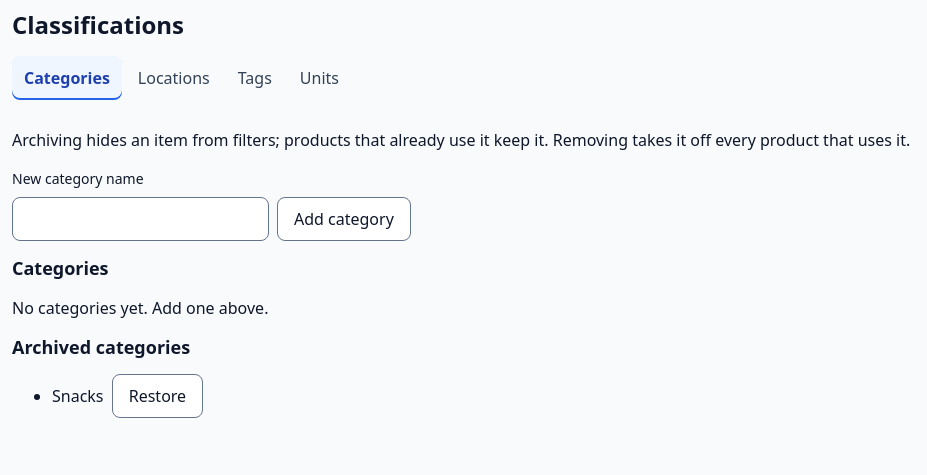
Test case: ClassificationsPage › Categories › archive and restore › restores an archived item and refreshes
Step 1. Click the button with aria-label "Restore Snacks" → (157, 396), box [112,374,203,418]
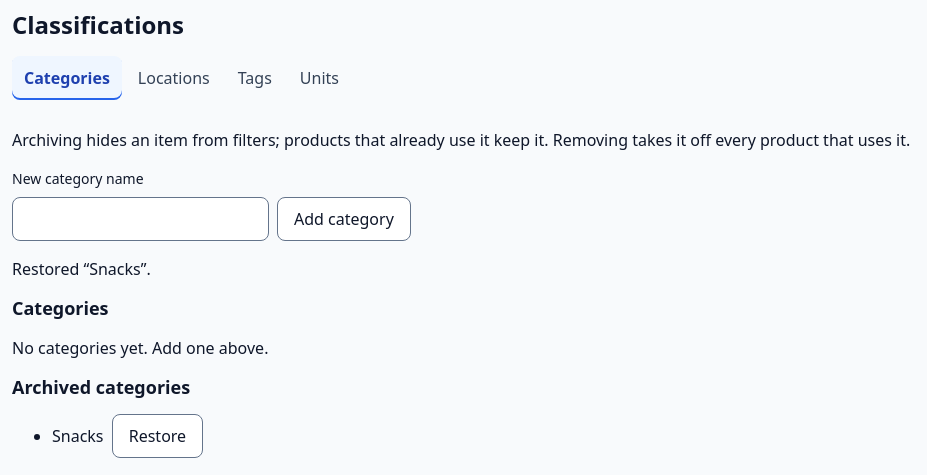
expect the text "Restored “Snacks”." is shown: met, box [12,258,151,280]
